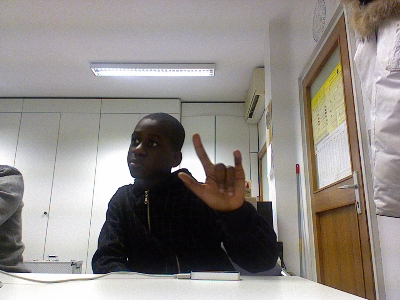我爱你: (176, 132, 246, 211)
